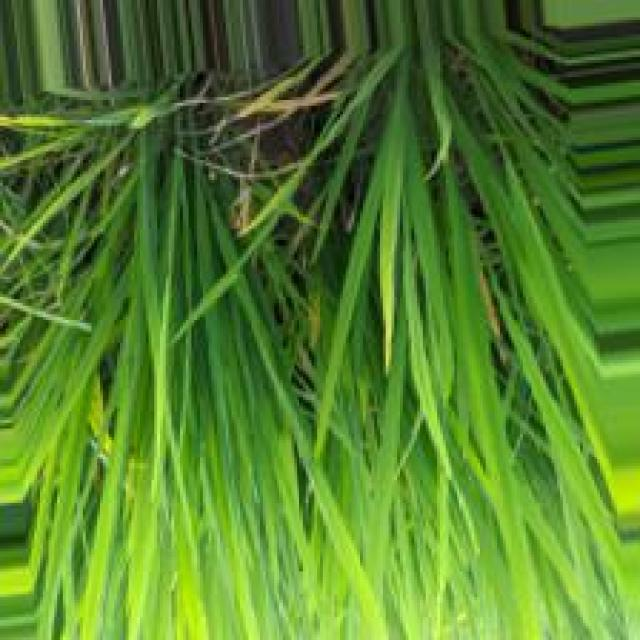HealthyLeaf: (450, 203, 488, 365)
